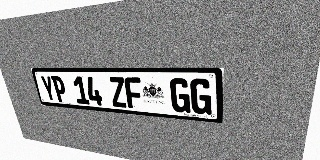1: (71, 76, 90, 104)
4: (84, 76, 103, 106)
F: (124, 77, 144, 109)
G: (190, 78, 211, 115), (169, 78, 190, 113)
P: (51, 76, 68, 103)
Y: (40, 76, 57, 102)
Z: (108, 77, 128, 108)
